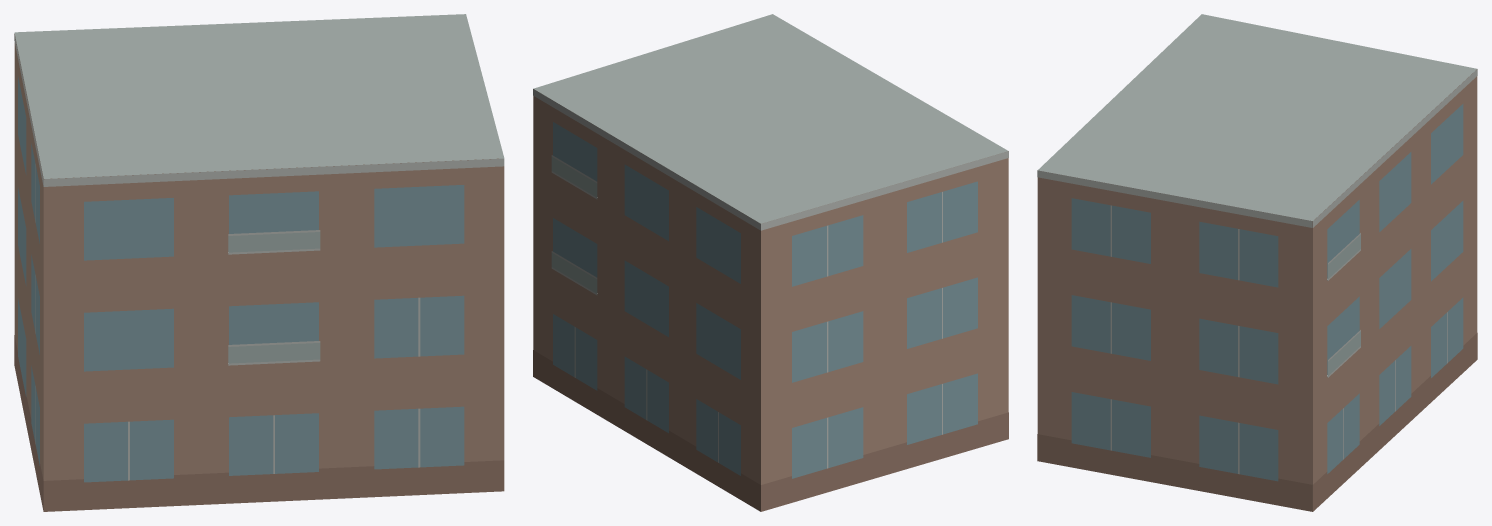
The model's file is survey-upis-32534301.glb.
3 views of the same model, side by side, from view 1: azimuth 30°, elevation 25°; view 2: azimuth 150°, elevation 25°; view 3: azimuth 270°, elevation 25° (orthographic). The views are drawn at different scales.
Parts seen in each view (by area): view 1: survey-upis-32534301.tmp; view 2: survey-upis-32534301.tmp; view 3: survey-upis-32534301.tmp.
Boxes of the visible parts, bbox=[...] form: survey-upis-32534301.tmp: bbox=[14, 14, 504, 511]; survey-upis-32534301.tmp: bbox=[533, 14, 1008, 511]; survey-upis-32534301.tmp: bbox=[1037, 14, 1477, 511].
Size of the model in its own units: 15.59 by 10.2 by 14.
